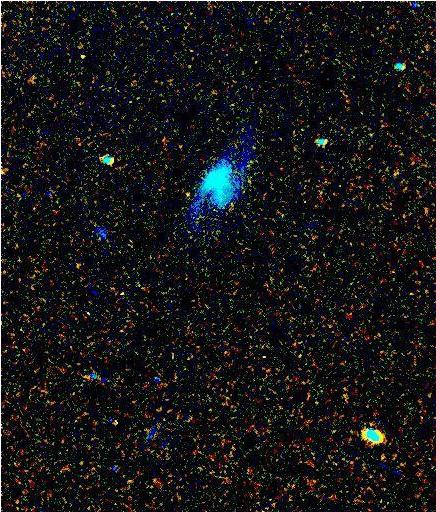star: (65, 41, 95, 71)
